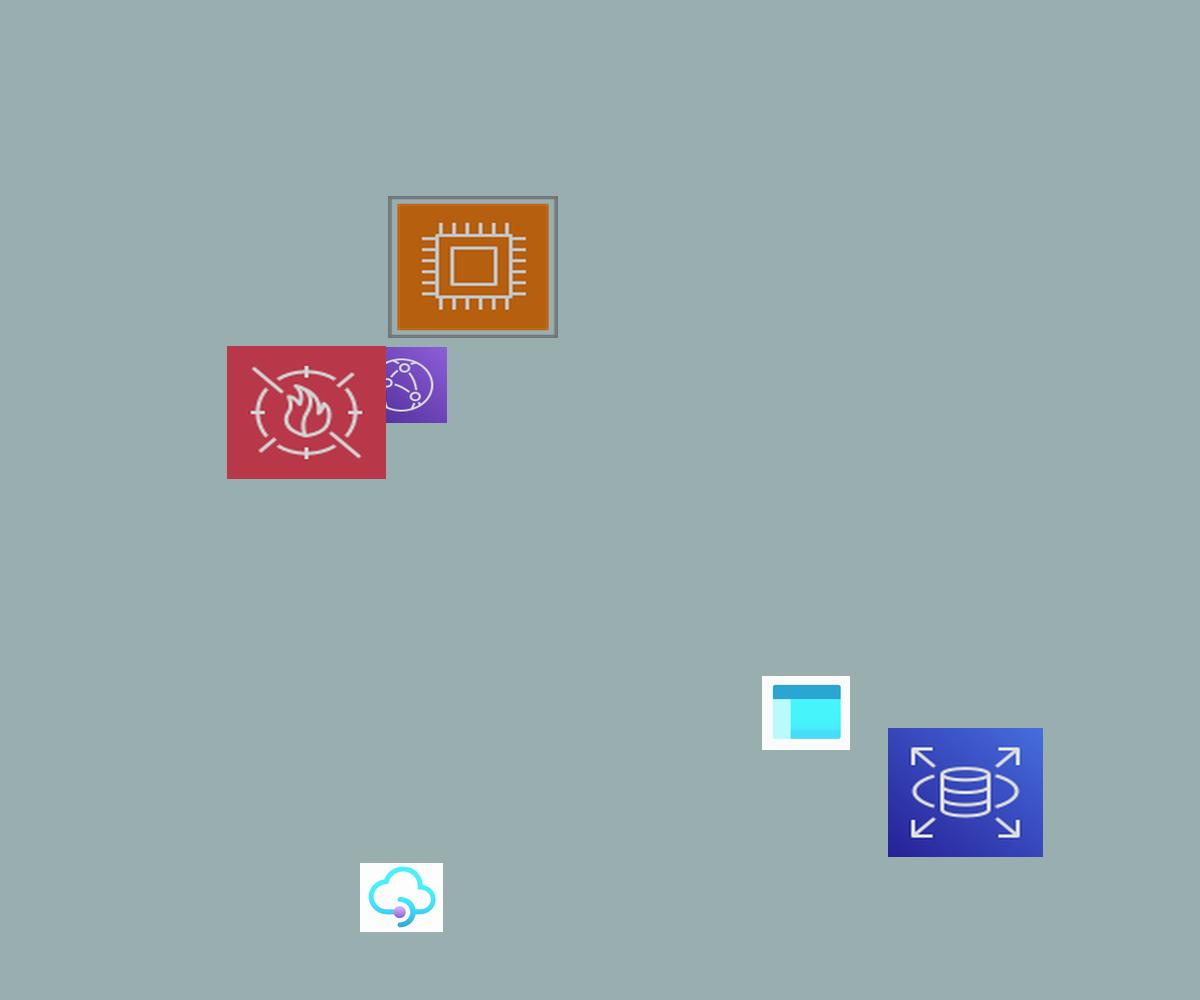AWS-Category_Compute: (388, 196, 558, 338)
AWS-CloudFront: (356, 347, 447, 423)
AWS-RDS: (888, 728, 1043, 857)
AWS-WAF: (227, 346, 386, 479)
Azure_api_gateway: (360, 863, 443, 932)
Azure_management-portal: (762, 676, 850, 750)
